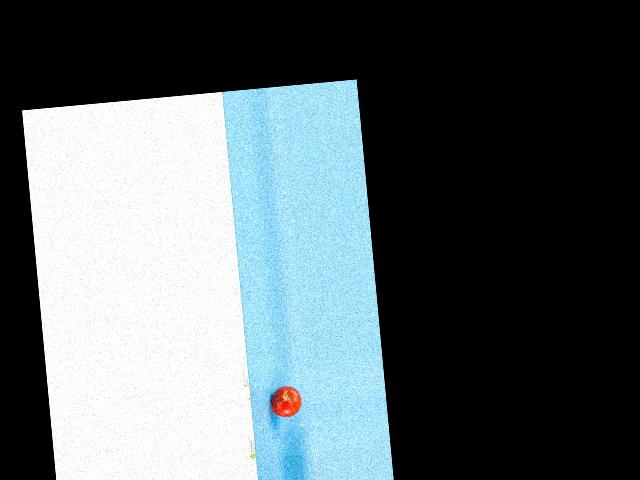tomato: (270, 384, 302, 418)
